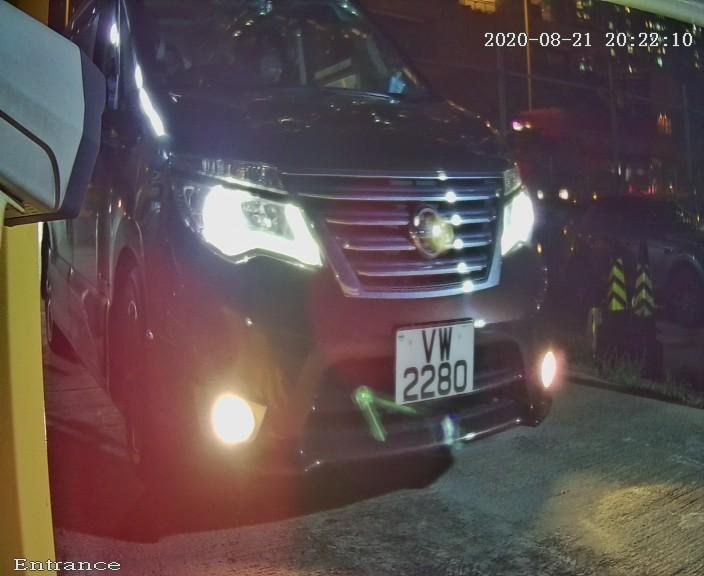Car: (23, 8, 617, 538)
License Plate: (384, 317, 485, 415)
